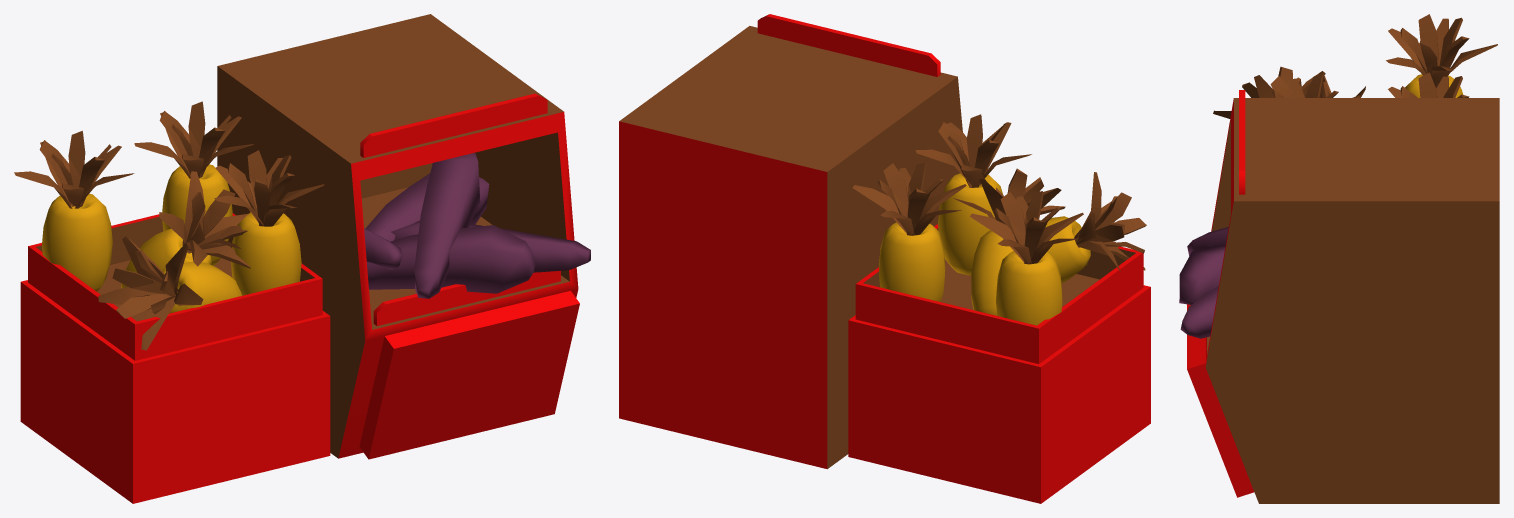
The model's file is Shelve_Fruit_03.fbx.
3 views of the same model, side by side, from view 1: azimuth 30°, elevation 25°; view 2: azimuth 150°, elevation 25°; view 3: azimuth 270°, elevation 25° (orthographic). The views are drawn at different scales.
Visible parts, largest first — view 1: pasted__Shelf_Short; view 2: pasted__Shelf_Short; view 3: pasted__Shelf_Short.
Part boxes in pixels (x1,y1,x2,y2): pasted__Shelf_Short: (14, 14, 590, 503); pasted__Shelf_Short: (619, 14, 1150, 503); pasted__Shelf_Short: (1179, 14, 1499, 503).
Bounding box in the file's own units: 10.48 × 7.24 × 6.52.
4 materials, 4 textured.
